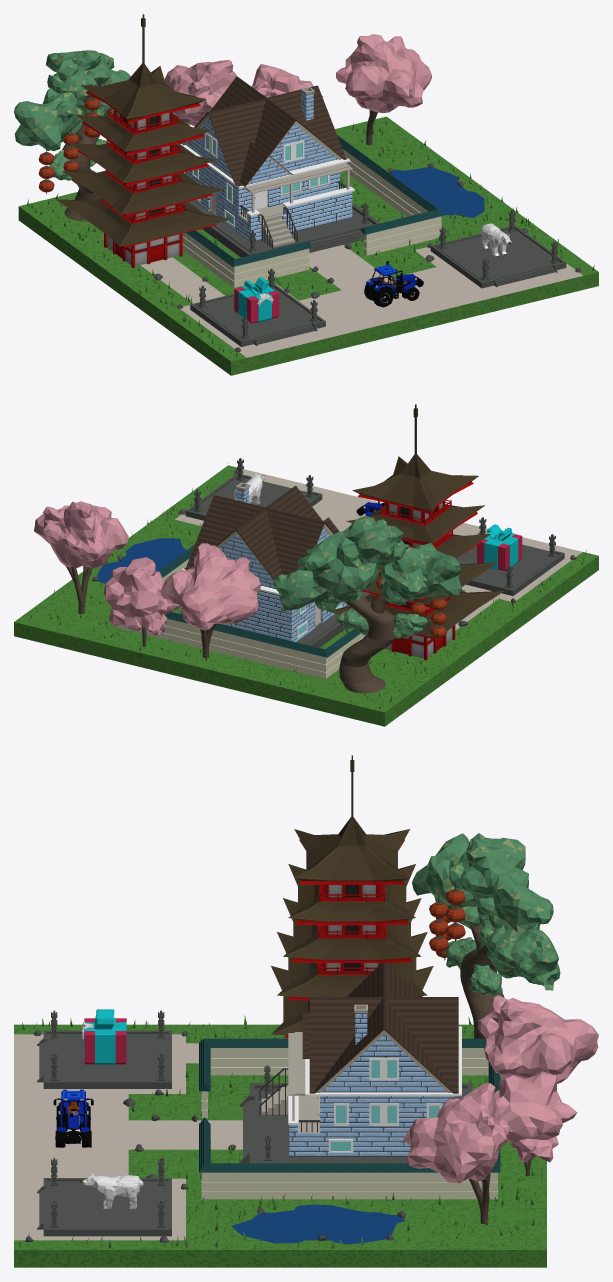
3 views of the same model, one above another, from view 1: azimuth 30°, elevation 25°; view 2: azimuth 150°, elevation 25°; view 3: azimuth 270°, elevation 25° (orthographic). The views are drawn at different scales.
Parts seen in each view (by area): view 1: Cube.005, Cube.547, OBJRANDOM_GIANT_PRESENT, VEHICLES_TRACTOR, ANIMAL_OSO_POLAR; view 2: Cube.005, Cube.547, OBJRANDOM_GIANT_PRESENT; view 3: Cube.005, Cube.547, OBJRANDOM_GIANT_PRESENT, VEHICLES_TRACTOR, ANIMAL_OSO_POLAR.
Boxes of the visible parts, box(x1,y1,x2,y2) form: Cube.005: box(14, 14, 598, 375); Cube.547: box(179, 76, 354, 248); OBJRANDOM_GIANT_PRESENT: box(234, 277, 279, 323); VEHICLES_TRACTOR: box(364, 260, 423, 307); ANIMAL_OSO_POLAR: box(481, 223, 511, 257); Cube.005: box(14, 404, 598, 726); Cube.547: box(181, 482, 347, 642); OBJRANDOM_GIANT_PRESENT: box(477, 524, 522, 570); Cube.005: box(14, 755, 598, 1267); Cube.547: box(259, 961, 461, 1156); OBJRANDOM_GIANT_PRESENT: box(82, 1009, 127, 1064); VEHICLES_TRACTOR: box(53, 1089, 93, 1147); ANIMAL_OSO_POLAR: box(80, 1173, 143, 1208).
Bounding box in the file's own units: 4528 × 2640 × 4389.
36 materials, 7 textured.
